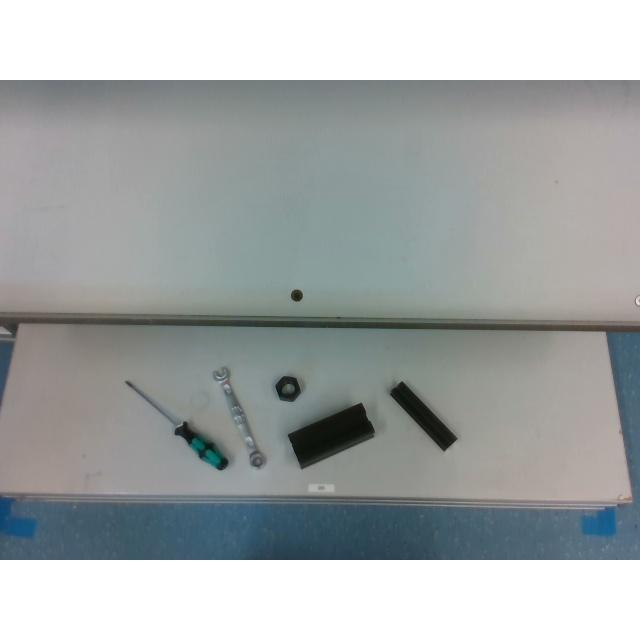F20_20_B: (390, 382, 456, 451)
M20: (276, 376, 300, 400)
S40_40_B: (290, 404, 374, 468)
Screwdriver: (125, 381, 227, 469)
Wrench: (213, 368, 265, 468)
